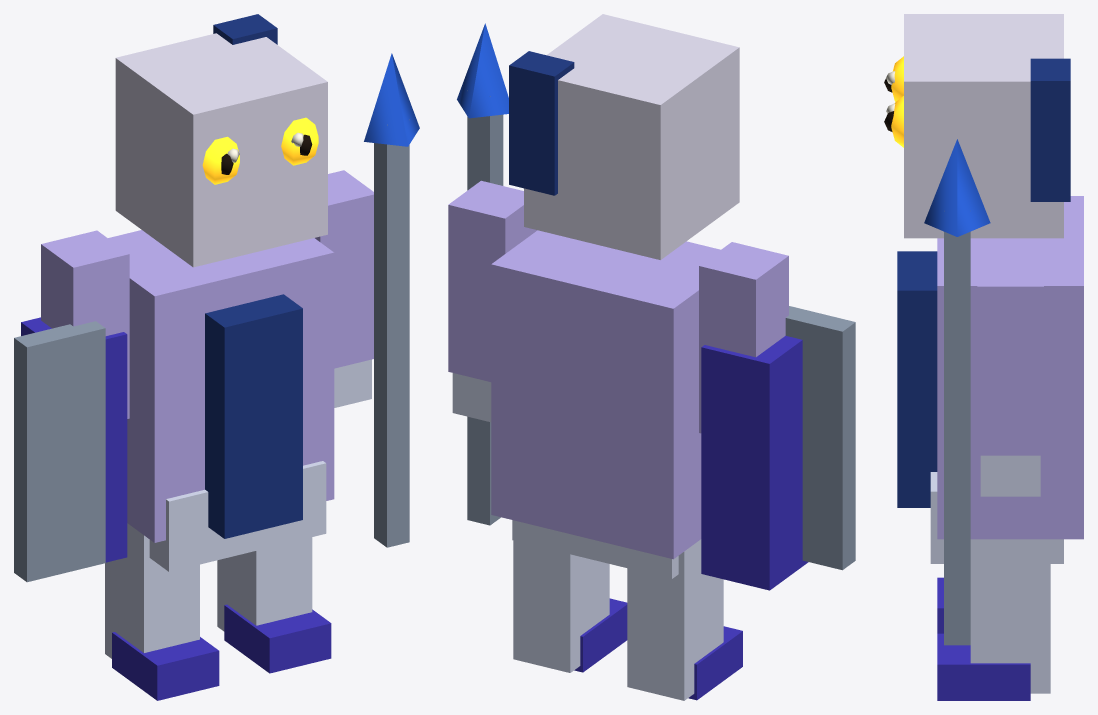
Rendered from RescueAmazonessB.glb.
3 views of the same model, side by side, from view 1: azimuth 30°, elevation 25°; view 2: azimuth 150°, elevation 25°; view 3: azimuth 270°, elevation 25° (orthographic). The views are drawn at different scales.
Parts seen in each view (by area): view 1: RescueAmazonessBody, RescueAmazonessArmR, RescueAmazonessArmL; view 2: RescueAmazonessBody, RescueAmazonessArmR, RescueAmazonessArmL; view 3: RescueAmazonessBody, RescueAmazonessArmR.
Boxes of the visible parts, box(x1,y1,x2,y2) form: RescueAmazonessBody: box(14, 14, 419, 700); RescueAmazonessArmR: box(315, 170, 373, 407); RescueAmazonessArmL: box(41, 230, 129, 418); RescueAmazonessBody: box(457, 14, 855, 700); RescueAmazonessArmR: box(448, 180, 537, 422); RescueAmazonessArmL: box(699, 242, 788, 433); RescueAmazonessBody: box(884, 14, 1083, 700); RescueAmazonessArmR: box(977, 258, 1043, 496).
Size of the model in its own units: 0.7 by 1.02 by 0.3.
